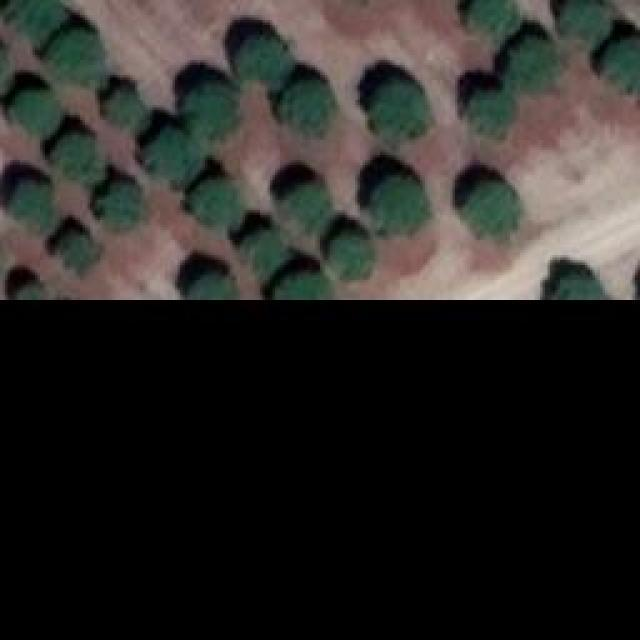Tree: (370, 175, 428, 235), (372, 83, 430, 138), (50, 218, 105, 273), (50, 33, 103, 86), (148, 133, 201, 183), (280, 83, 330, 136), (185, 83, 235, 136), (465, 185, 518, 235), (282, 180, 330, 235), (190, 178, 240, 228), (10, 0, 65, 45), (10, 183, 58, 233), (505, 43, 553, 93), (465, 0, 520, 40), (10, 90, 58, 135), (237, 38, 285, 83), (562, 0, 610, 45), (605, 38, 640, 98), (52, 135, 100, 178), (468, 90, 513, 135), (243, 230, 278, 280), (100, 183, 140, 226), (332, 235, 370, 275), (275, 275, 335, 298), (550, 275, 608, 298), (105, 93, 143, 126), (185, 278, 240, 298), (5, 273, 45, 298)
